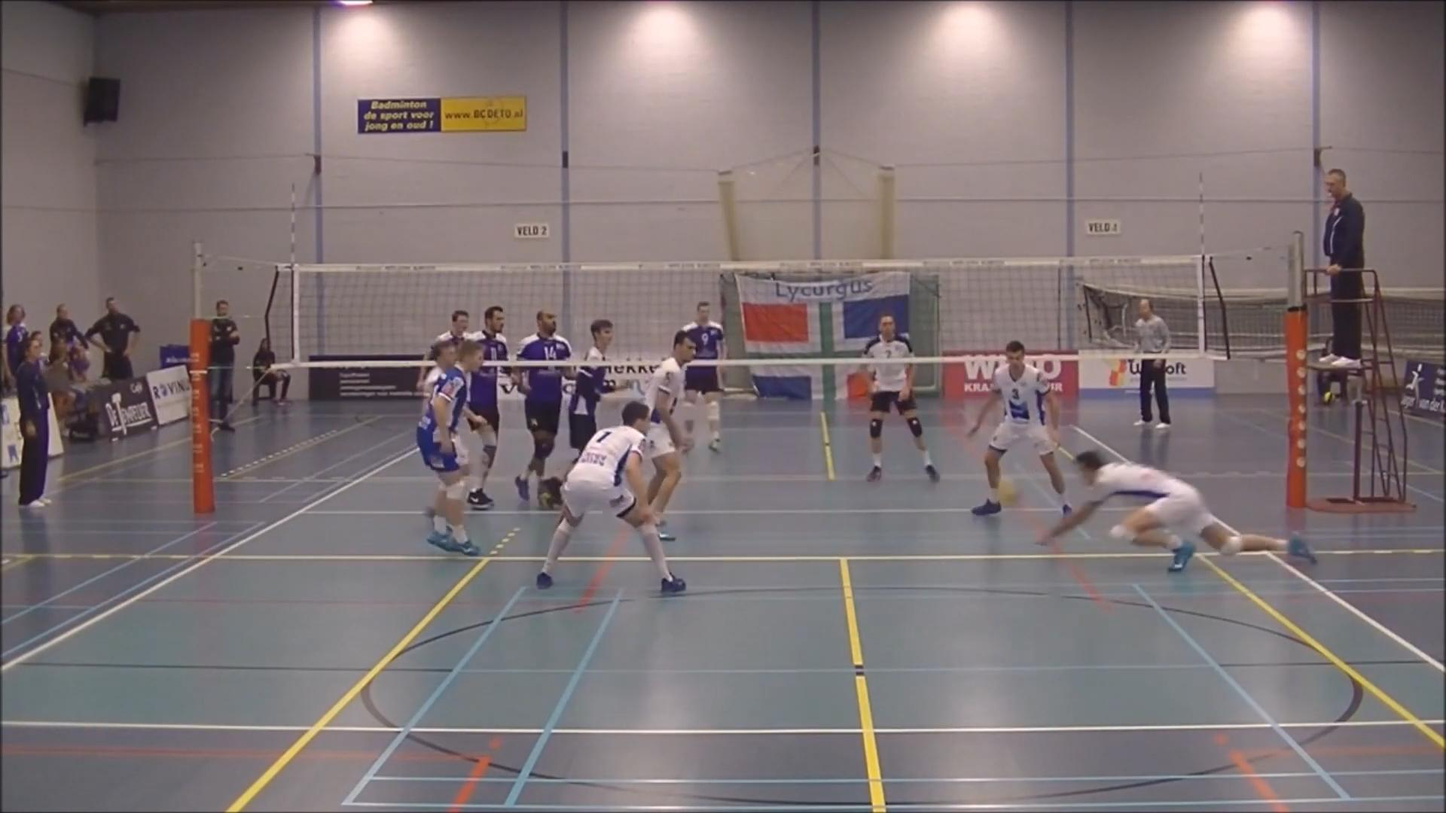difesa: (1023, 448, 1331, 579)
